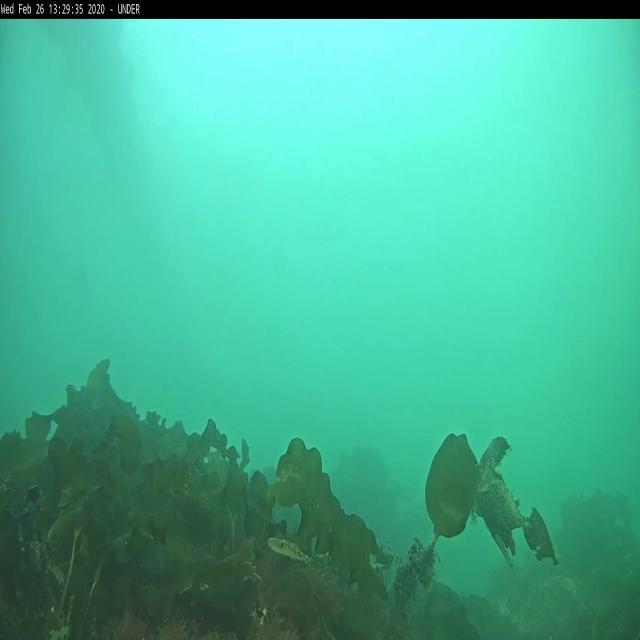fish: (268, 535, 312, 567)
